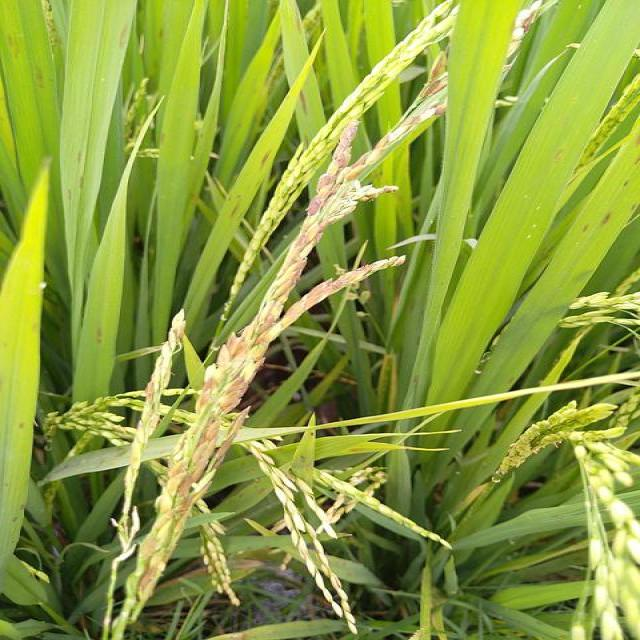Panicle Blight: (137, 57, 448, 605), (139, 311, 184, 461)
